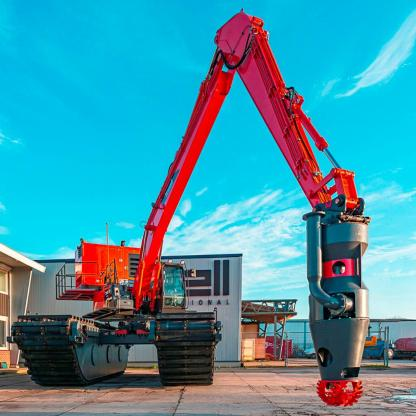excavator: (21, 7, 388, 410)
